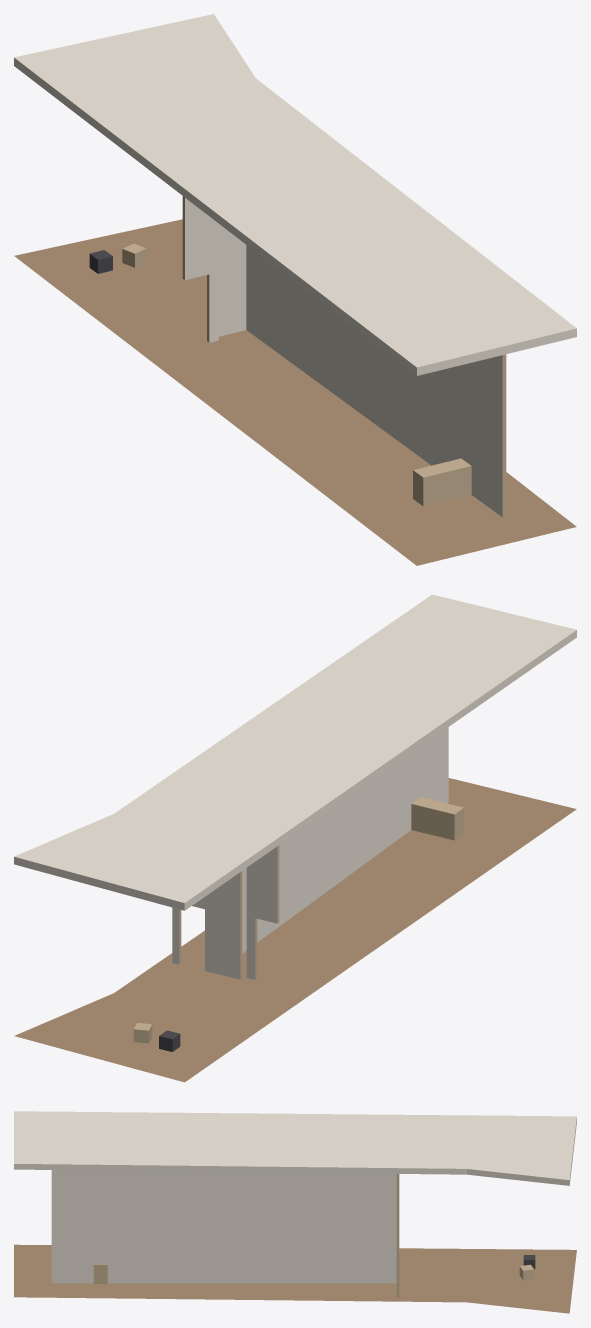
File: interior.glb
The picture shows the model from 3 angles, top to bottom: view 1: azimuth 30°, elevation 25°; view 2: azimuth 150°, elevation 25°; view 3: azimuth 270°, elevation 25°; orthographic projection. The views are drawn at different scales.
Visible parts, largest first — view 1: slabs, partitions, coarse-s0; view 2: slabs, partitions, coarse-s0; view 3: slabs, partitions, coarse-s0.
Boxes of the visible parts, x1,y1,x2,y2 form: slabs: (14, 14, 576, 565); partitions: (182, 196, 506, 517); coarse-s0: (89, 243, 471, 506); slabs: (14, 594, 576, 1082); partitions: (172, 727, 448, 979); coarse-s0: (133, 797, 463, 1051); slabs: (14, 1111, 576, 1313); partitions: (51, 1170, 399, 1297); coarse-s0: (93, 1255, 535, 1283).
Bounding box in the file's own units: 6.69 × 6.06 × 23.09.
